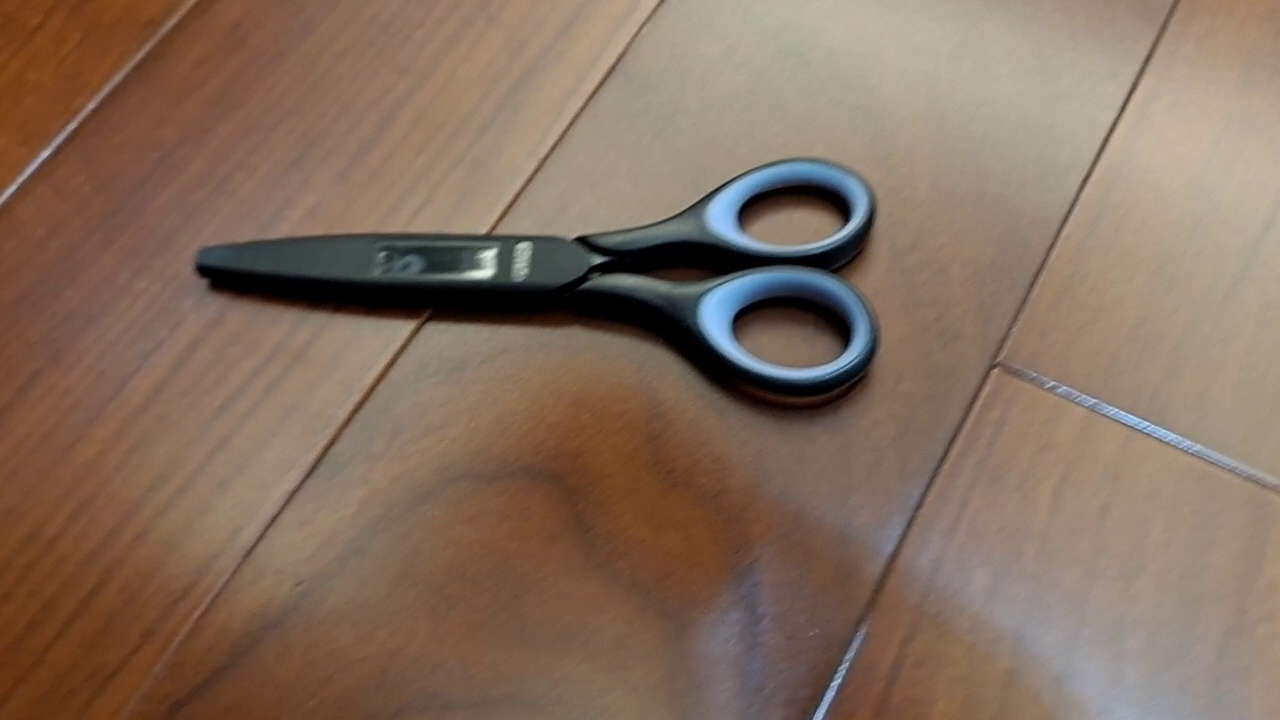scissors: (190, 154, 880, 400)
